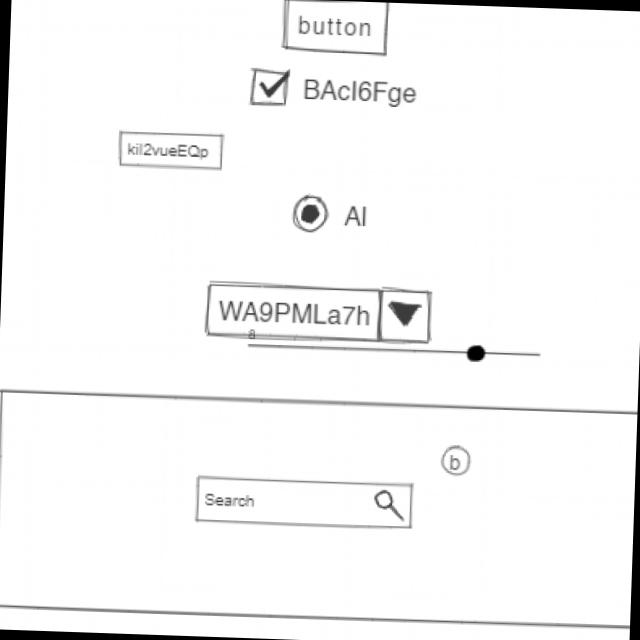button: (278, 1, 393, 57)
checkbox: (248, 64, 422, 118)
container: (1, 385, 638, 631)
icon-button: (438, 443, 475, 479)
input: (115, 129, 229, 173)
radio: (287, 191, 371, 237)
search: (193, 474, 417, 533)
select: (203, 278, 438, 349)
slider: (259, 339, 545, 366)
